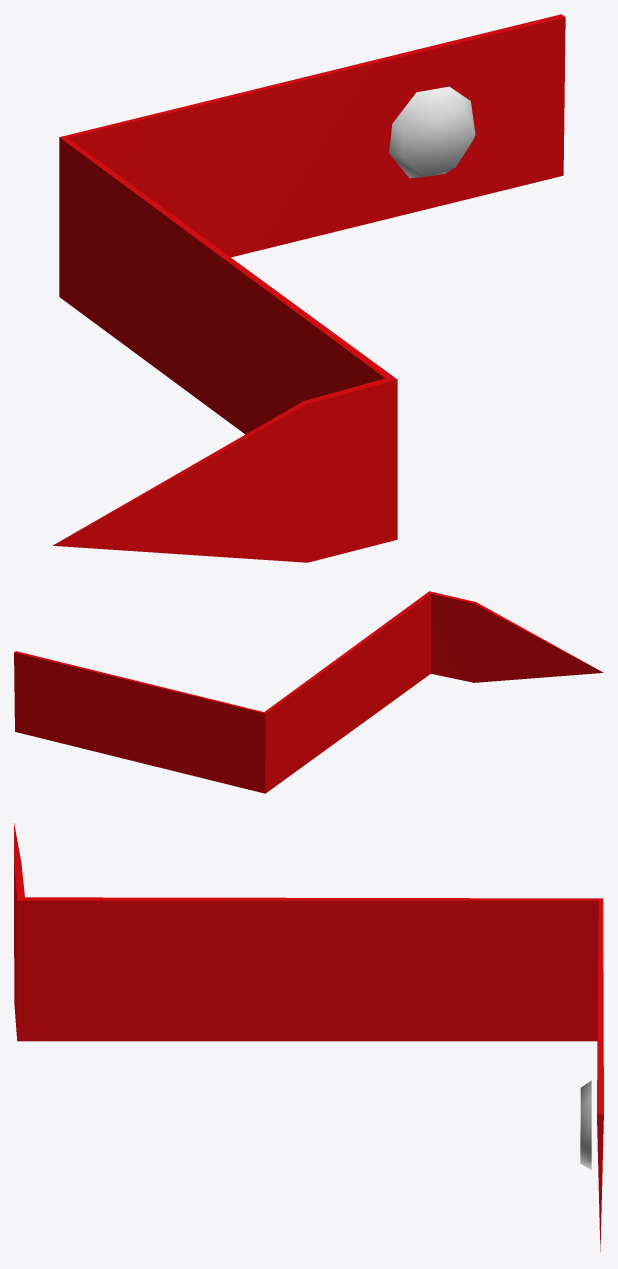
Rendered from mdl_penny_press_marker.gltf.
The picture shows the model from 3 angles, top to bottom: view 1: azimuth 30°, elevation 25°; view 2: azimuth 150°, elevation 25°; view 3: azimuth 270°, elevation 25°; orthographic projection. The views are drawn at different scales.
Parts seen in each view (by area): view 1: Marker; view 2: Marker; view 3: Marker.
Boxes of the visible parts, box(x1,y1,x2,y2) form: Marker: box(53, 14, 565, 562); Marker: box(14, 591, 603, 793); Marker: box(14, 823, 603, 1252).
Size of what is drawn, in the model's own units: 0.0676 by 0.0122 by 0.0465.
